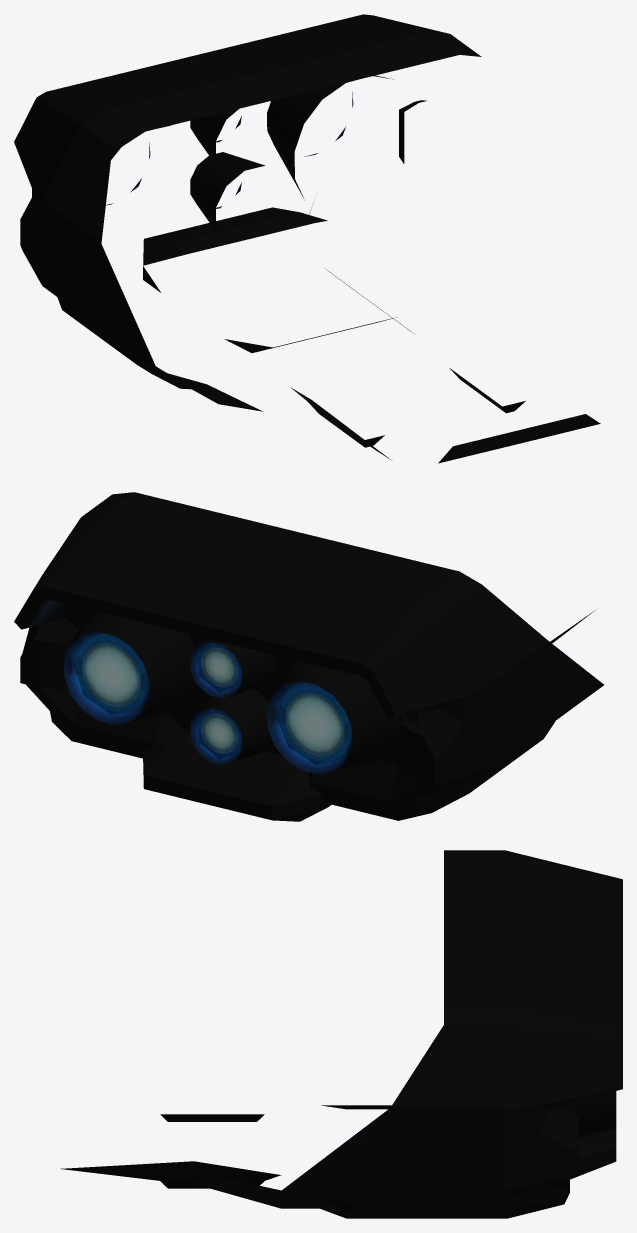
Rendered from engine_hgn_carrier_03_ion_03_t1.glb.
3 views of the same model, one above another, from view 1: azimuth 30°, elevation 25°; view 2: azimuth 150°, elevation 25°; view 3: azimuth 270°, elevation 25° (orthographic). The views are drawn at different scales.
Parts seen in each view (by area): view 1: hgn_flagship_carrier_03_ion_engine_m_LOD0; view 2: hgn_flagship_carrier_03_ion_engine_m_LOD0; view 3: hgn_flagship_carrier_03_ion_engine_m_LOD0.
Part boxes in pixels (bbox=[...]): hgn_flagship_carrier_03_ion_engine_m_LOD0: bbox=[14, 14, 600, 463]; hgn_flagship_carrier_03_ion_engine_m_LOD0: bbox=[14, 492, 603, 821]; hgn_flagship_carrier_03_ion_engine_m_LOD0: bbox=[60, 850, 622, 1218].
Size of the model in its own units: 1.86 by 0.9168 by 2.27.
1 material, 1 textured.
